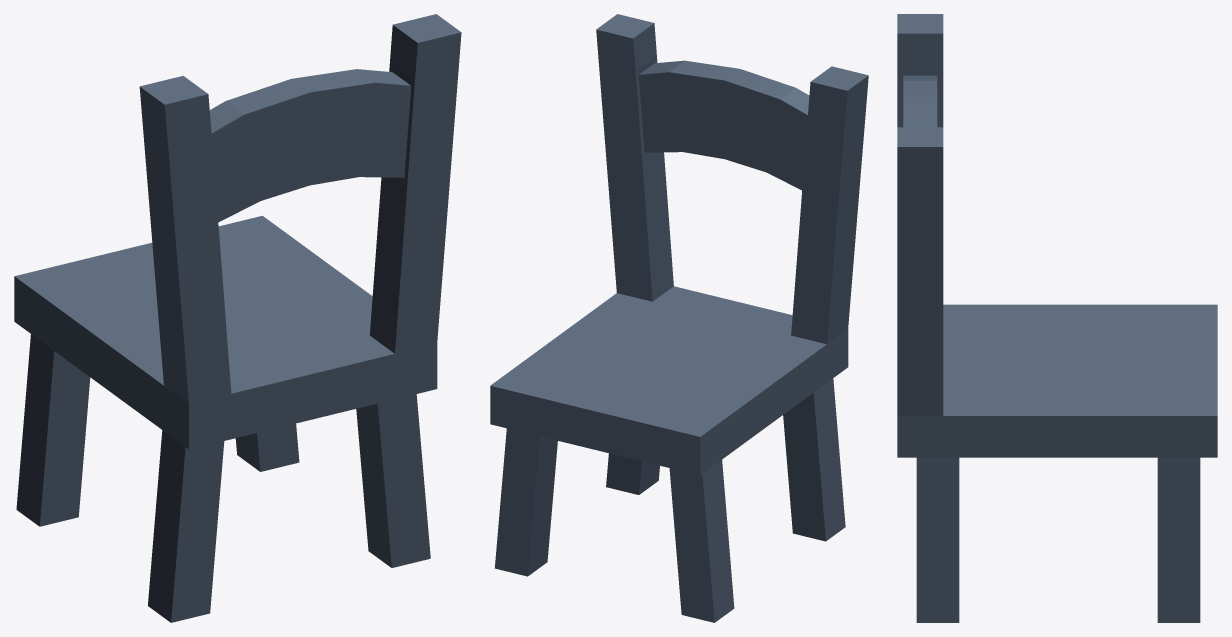
File: Prop_Chair_04.fbx
The picture shows the model from 3 angles, left to right: view 1: azimuth 30°, elevation 25°; view 2: azimuth 150°, elevation 25°; view 3: azimuth 270°, elevation 25°; orthographic projection. The views are drawn at different scales.
Visible parts, largest first — view 1: Chair_02; view 2: Chair_02; view 3: Chair_02.
Boxes of the visible parts, x1,y1,x2,y2 form: Chair_02: (14,14,461,622); Chair_02: (490,14,868,622); Chair_02: (897,14,1217,622).
Bounding box in the file's own units: 38.85 × 39.59 × 66.29.
1 material, 1 textured.
